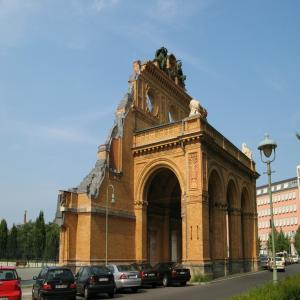Vehicle-registration-plate: (56, 285, 67, 289), (100, 279, 109, 282)
